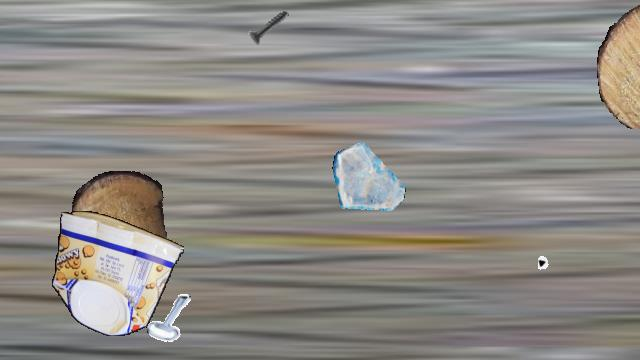glass: (332, 139, 406, 213)
metal: (538, 238, 600, 300), (243, 1, 295, 53), (146, 293, 198, 345)
plastic: (52, 211, 184, 335)
wood: (72, 171, 166, 275), (597, 1, 640, 129)
